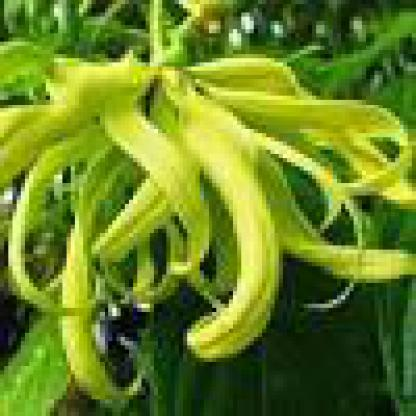Kenanga: (43, 39, 338, 322)
